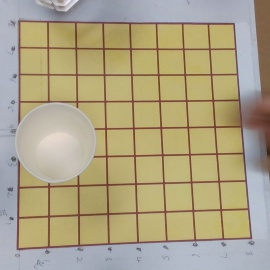cup: (17, 104, 97, 184)
